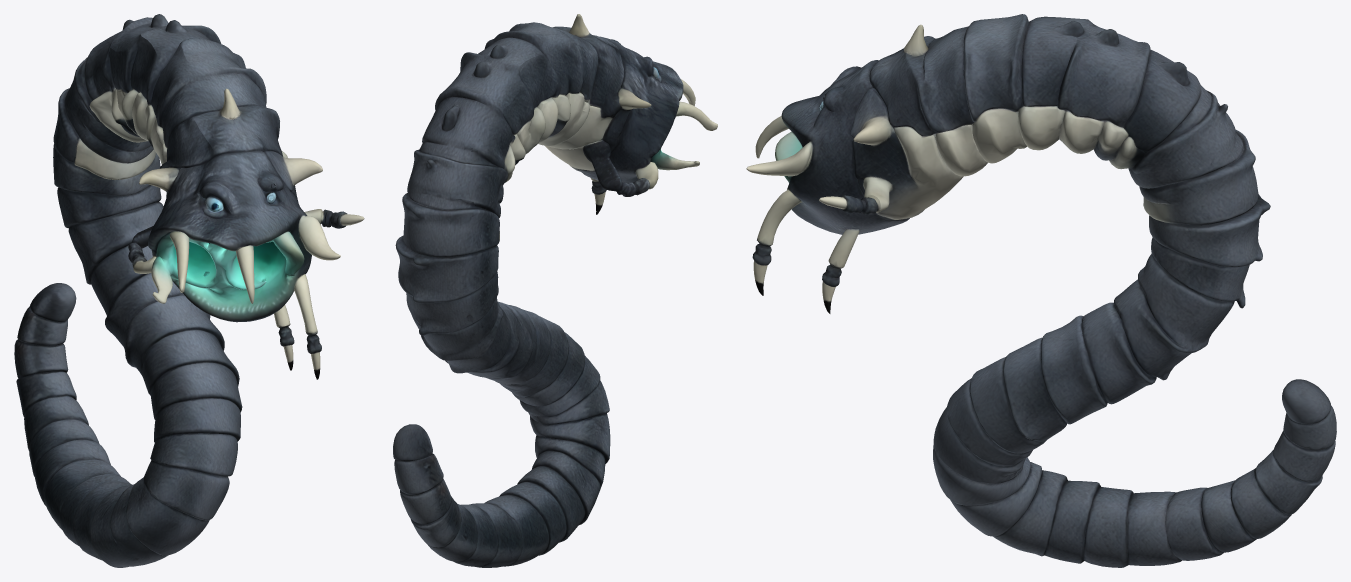
The model's file is enemy_thread_leech.glb.
3 renders of one model, left to right at view 1: azimuth 30°, elevation 25°; view 2: azimuth 150°, elevation 25°; view 3: azimuth 270°, elevation 25°, orthographic. The views are drawn at different scales.
Parts seen in each view (by area): view 1: model; view 2: model; view 3: model.
Part boxes in pixels (x1,y1,x2,y2): model: (14,14,364,567); model: (393,14,717,567); model: (746,14,1336,567).
Size of the model in its own units: 0.7303 by 1.89 by 1.77.
1 material, 1 textured.
